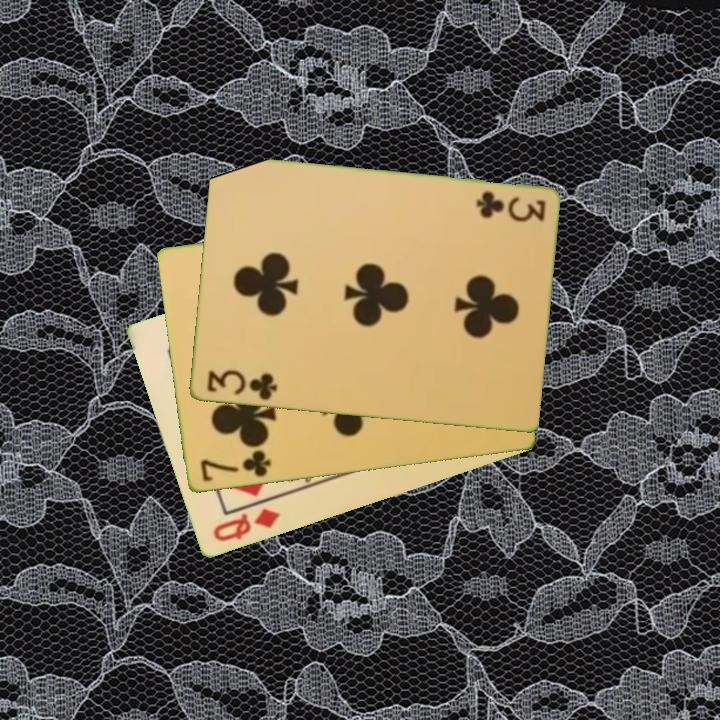3c: (203, 366, 280, 403), (472, 188, 548, 224)
7c: (196, 446, 274, 485)
Qd: (209, 505, 283, 546)
